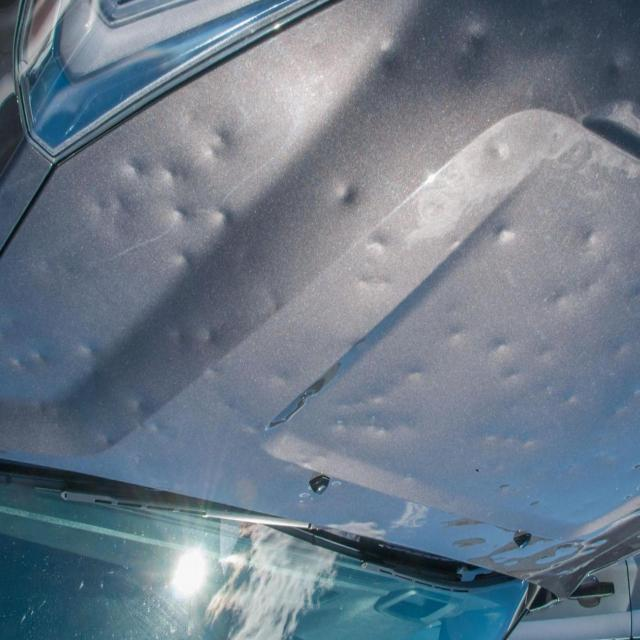dent: (89, 101, 262, 244), (322, 352, 452, 450), (364, 12, 496, 70), (318, 168, 384, 214)
